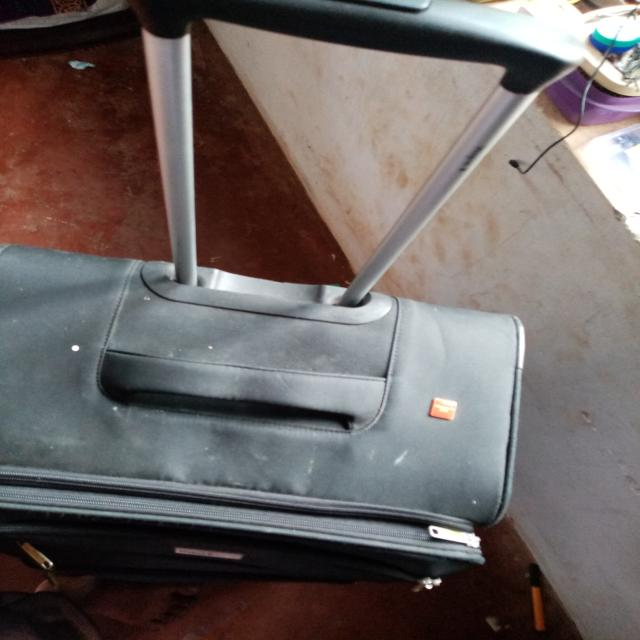suitcaserotation: (0, 0, 591, 596)
